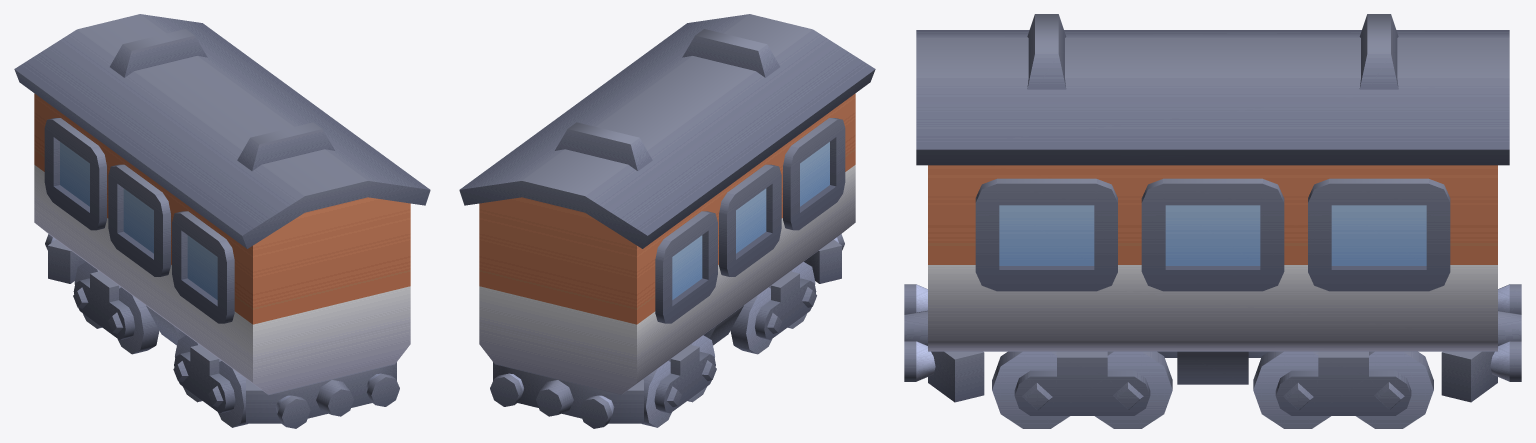
File: train-locomotive-passenger-a.glb
3 views of the same model, side by side, from view 1: azimuth 30°, elevation 25°; view 2: azimuth 150°, elevation 25°; view 3: azimuth 270°, elevation 25° (orthographic). The views are drawn at different scales.
Visible parts, largest first — view 1: train-locomotive-passenger-a, wheels-back, wheels-front; view 2: train-locomotive-passenger-a, wheels-front, wheels-back; view 3: train-locomotive-passenger-a, wheels-front, wheels-back.
Boxes of the visible parts, bbox=[...] form: train-locomotive-passenger-a: bbox=[14, 14, 430, 428]; wheels-back: bbox=[73, 262, 159, 354]; wheels-front: bbox=[173, 335, 247, 427]; train-locomotive-passenger-a: bbox=[459, 14, 875, 428]; wheels-front: bbox=[730, 262, 816, 354]; wheels-back: bbox=[642, 335, 716, 427]; train-locomotive-passenger-a: bbox=[904, 14, 1521, 402]; wheels-front: bbox=[992, 351, 1172, 428]; wheels-back: bbox=[1253, 351, 1433, 428].
Bounding box in the file's own units: 1.19 × 1.65 × 2.6.
1 material, 1 textured.
